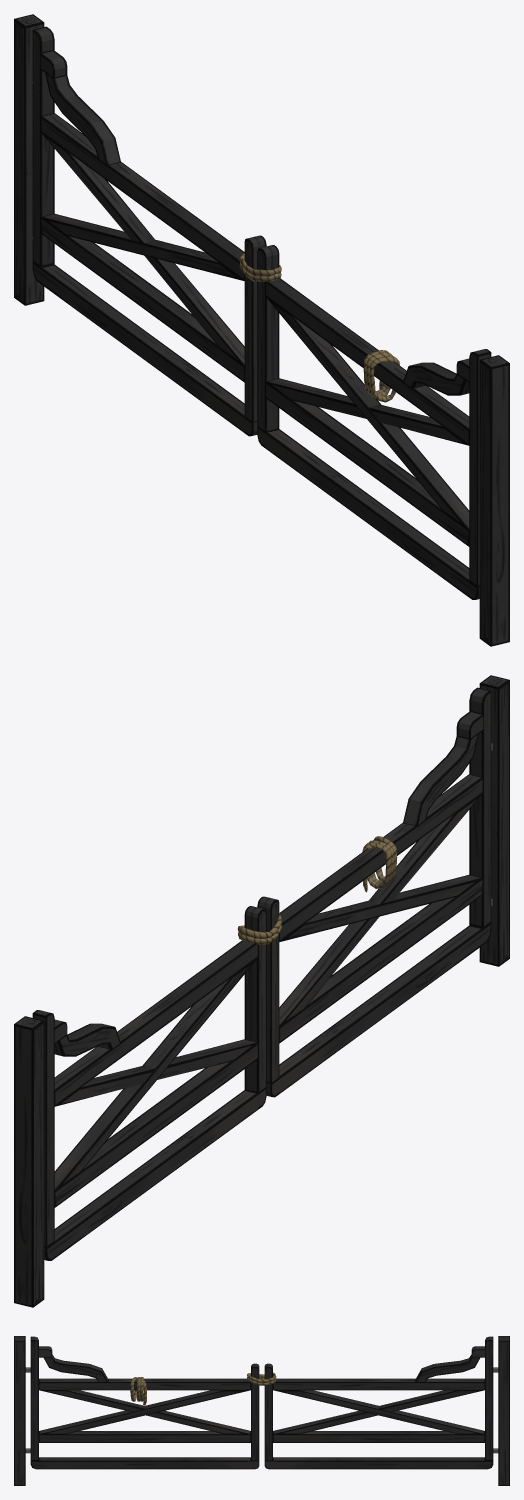
File: Gate.fbx
3 renders of one model, top to bottom at view 1: azimuth 30°, elevation 25°; view 2: azimuth 150°, elevation 25°; view 3: azimuth 270°, elevation 25°, orthographic. The views are drawn at different scales.
Parts seen in each view (by area): view 1: Gate; view 2: Gate; view 3: Gate.
Boxes of the visible parts, x1,y1,x2,y2 form: Gate: (14,14,509,646); Gate: (14,675,509,1307); Gate: (14,1336,509,1485).
Bounding box in the file's own units: 12.49 × 119 × 368.
